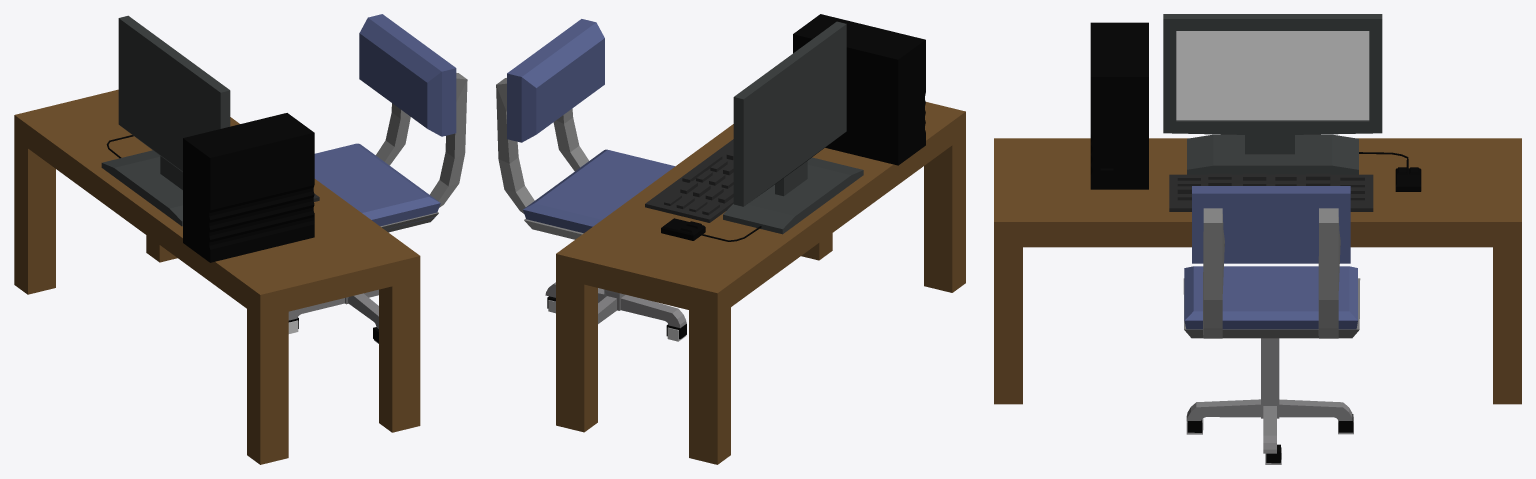
Rendered from desk, chair and PC.fbx.
The picture shows the model from 3 angles, left to right: view 1: azimuth 30°, elevation 25°; view 2: azimuth 150°, elevation 25°; view 3: azimuth 270°, elevation 25°; orthographic projection. The views are drawn at different scales.
Parts seen in each view (by area): view 1: MY TDESK.005, the pc screen.004, Plane.066; view 2: MY TDESK.005, the pc screen.004, Plane.066; view 3: the pc screen.004, MY TDESK.005, Plane.066.
Boxes of the visible parts, box(x1,y1,x2,y2) form: MY TDESK.005: box(14, 89, 420, 464); the pc screen.004: box(101, 15, 319, 262); Plane.066: box(288, 14, 467, 343); MY TDESK.005: box(556, 102, 965, 464); the pc screen.004: box(645, 14, 925, 241); Plane.066: box(496, 19, 686, 341); the pc screen.004: box(1090, 14, 1421, 211); MY TDESK.005: box(994, 138, 1521, 404); Plane.066: box(1183, 186, 1360, 464).
Size of the model in its own units: 250 by 235 by 344.
